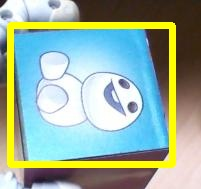Blue1: (12, 24, 173, 163)
